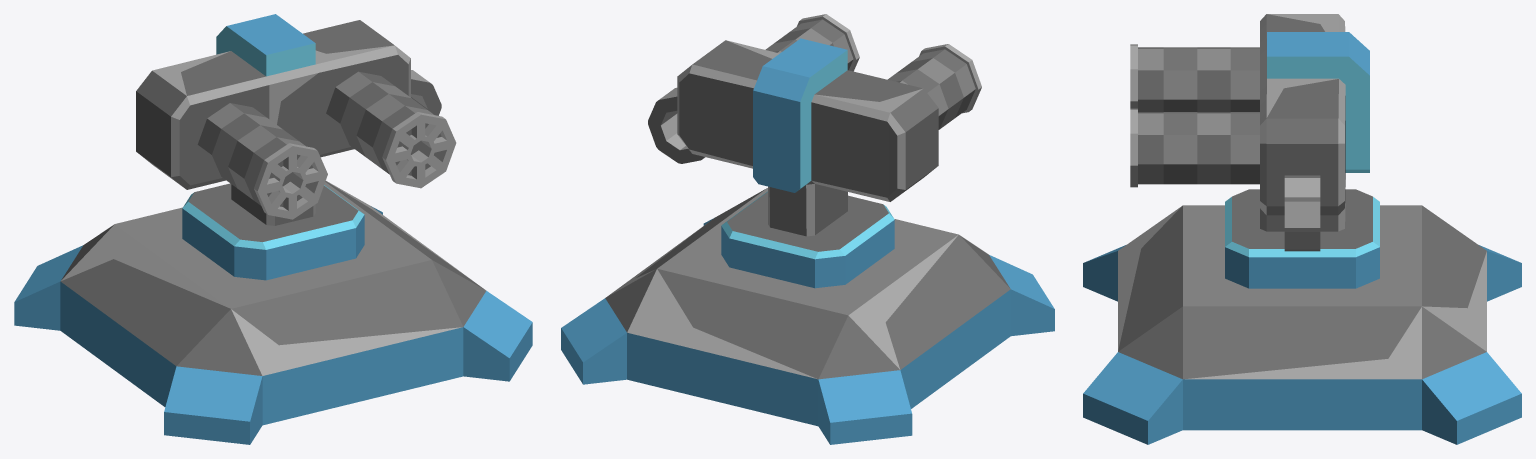
Rendered from tower_gatling_blue_1.fbx.
3 renders of one model, left to right at view 1: azimuth 30°, elevation 25°; view 2: azimuth 150°, elevation 25°; view 3: azimuth 270°, elevation 25°, orthographic. The views are drawn at different scales.
Parts seen in each view (by area): view 1: tower_gatling_blue_1, top_gatling_blue_1; view 2: tower_gatling_blue_1, top_gatling_blue_1; view 3: tower_gatling_blue_1, top_gatling_blue_1.
Boxes of the visible parts, left/top/right/bottom form: tower_gatling_blue_1: left=14, top=181, right=532, bottom=444; top_gatling_blue_1: left=136, top=14, right=456, bottom=280; tower_gatling_blue_1: left=561, top=188, right=1054, bottom=444; top_gatling_blue_1: left=648, top=14, right=981, bottom=288; tower_gatling_blue_1: left=1083, top=205, right=1521, bottom=444; top_gatling_blue_1: left=1130, top=14, right=1379, bottom=288.
Bounding box in the file's own units: 158 × 122 × 158.
